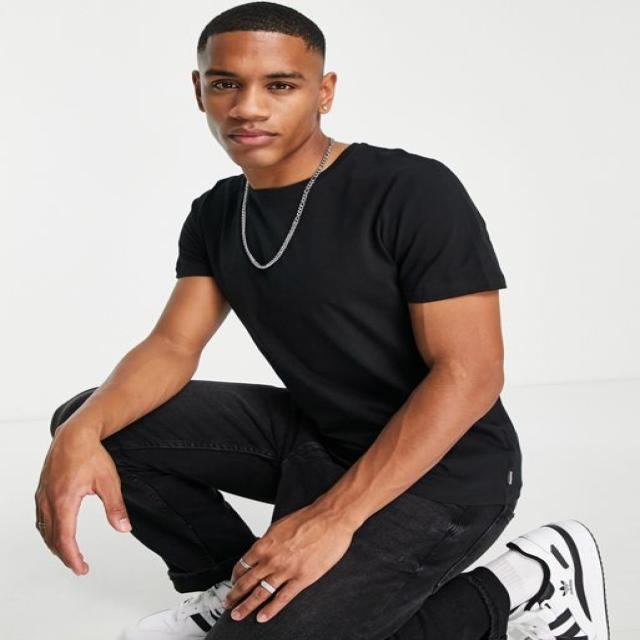tshirt: (170, 140, 522, 505)
